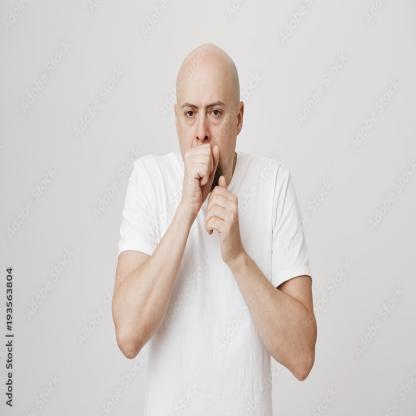fist: (202, 175, 246, 268), (180, 140, 222, 210)
